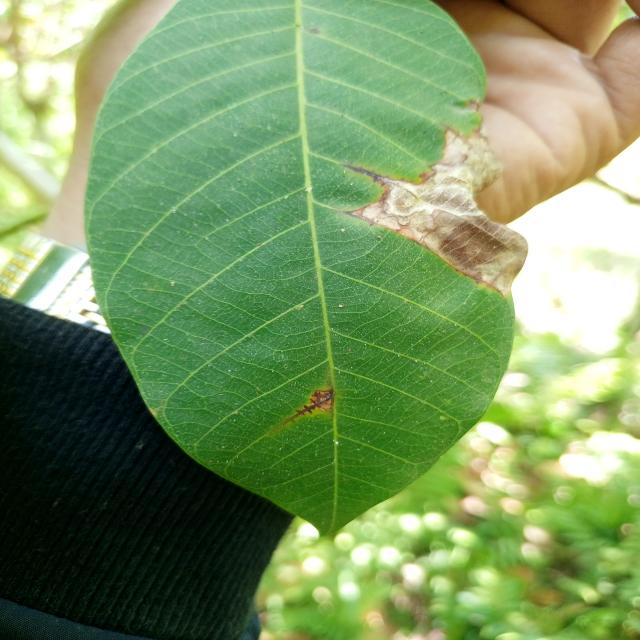Corynespora: (287, 388, 336, 421), (338, 163, 388, 185)
Leaf-Blight: (348, 124, 529, 295)
